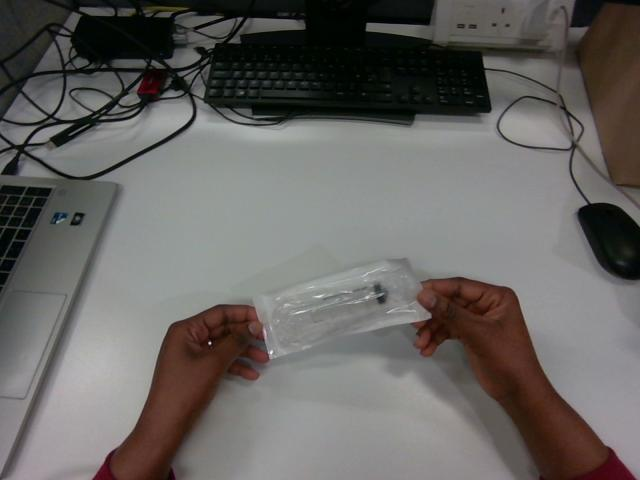syringe: (254, 259, 428, 357)
